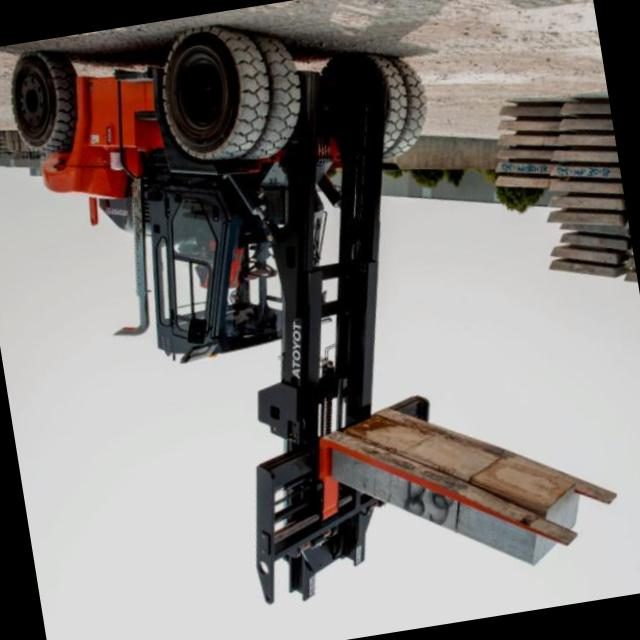forklift: (0, 0, 487, 446)
